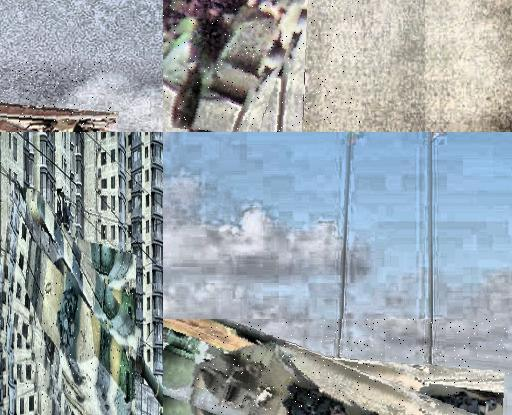tanks: (18, 190, 141, 414), (197, 320, 477, 415), (164, 1, 309, 133), (139, 357, 164, 415)
